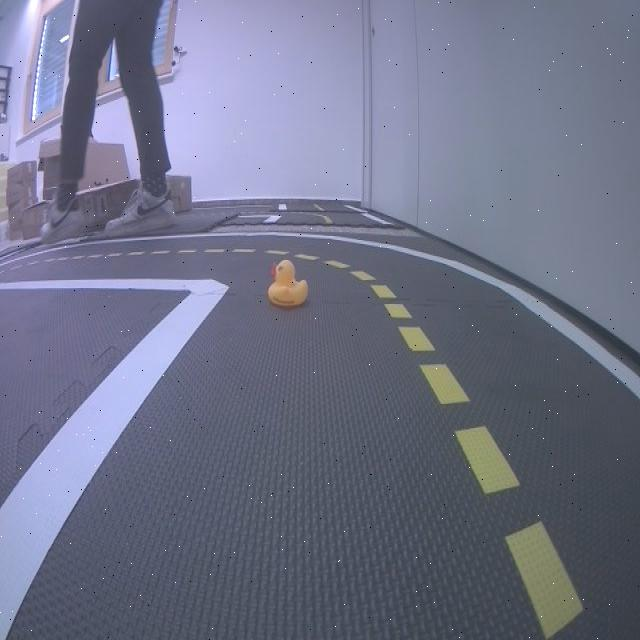duckie: (268, 259, 309, 308)
